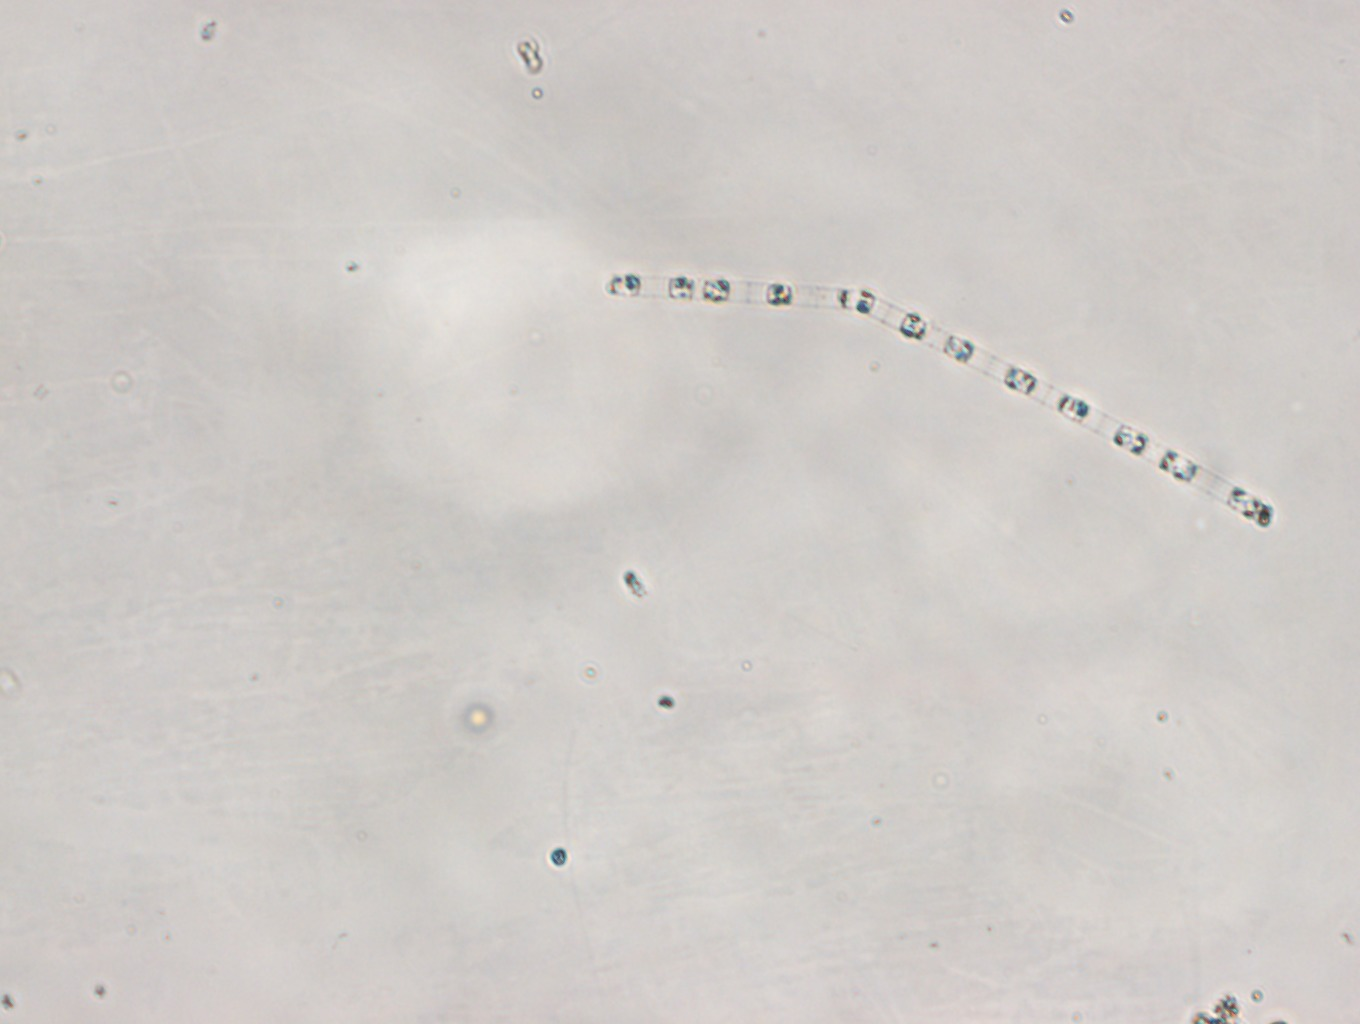skeletonema: (606, 272, 1275, 531)
